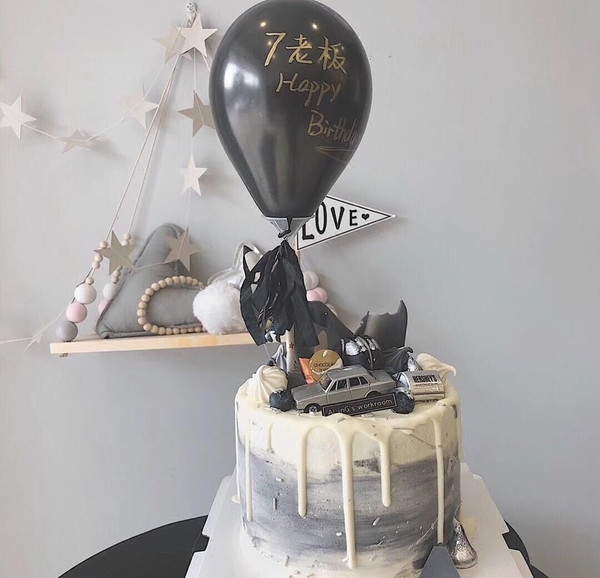balloon: (210, 1, 373, 225)
